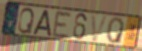6: (72, 12, 88, 41)
A: (32, 9, 52, 37)
E: (51, 10, 73, 40)
Q: (106, 17, 126, 45), (17, 6, 35, 35)
V: (90, 14, 110, 43)
